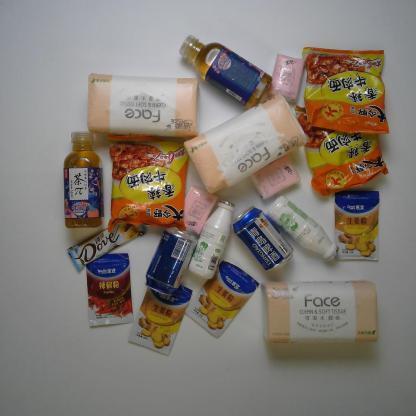Alcohol: (230, 204, 295, 274), (145, 224, 199, 298)
Chocolate: (66, 218, 155, 274)
Drink: (177, 34, 274, 112), (62, 130, 104, 228)
Instant Noodles: (294, 105, 390, 195), (302, 45, 392, 136), (103, 142, 189, 233)
Milk: (264, 194, 339, 262), (187, 198, 238, 280)
Seasoner: (184, 260, 262, 340), (128, 282, 193, 357), (84, 252, 136, 329), (333, 188, 382, 262)
Tissue: (182, 93, 312, 195), (84, 70, 200, 142), (262, 278, 380, 347), (249, 152, 301, 201), (268, 53, 307, 104), (182, 185, 219, 235)
